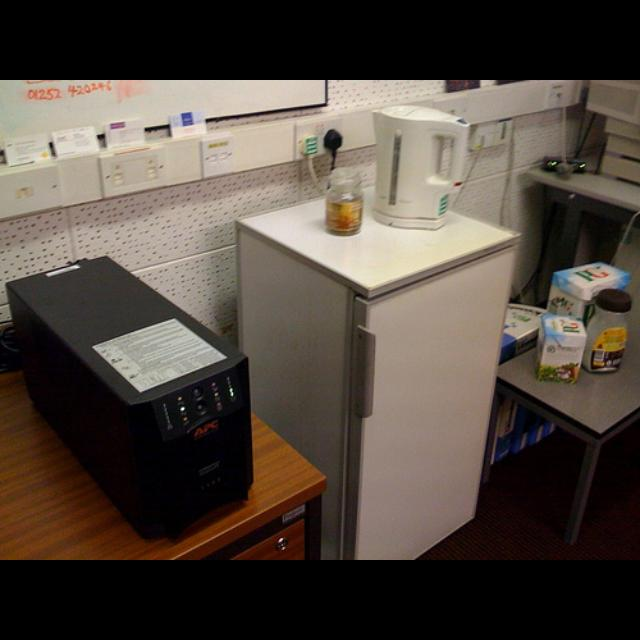Refrigerator: (235, 185, 522, 555)
